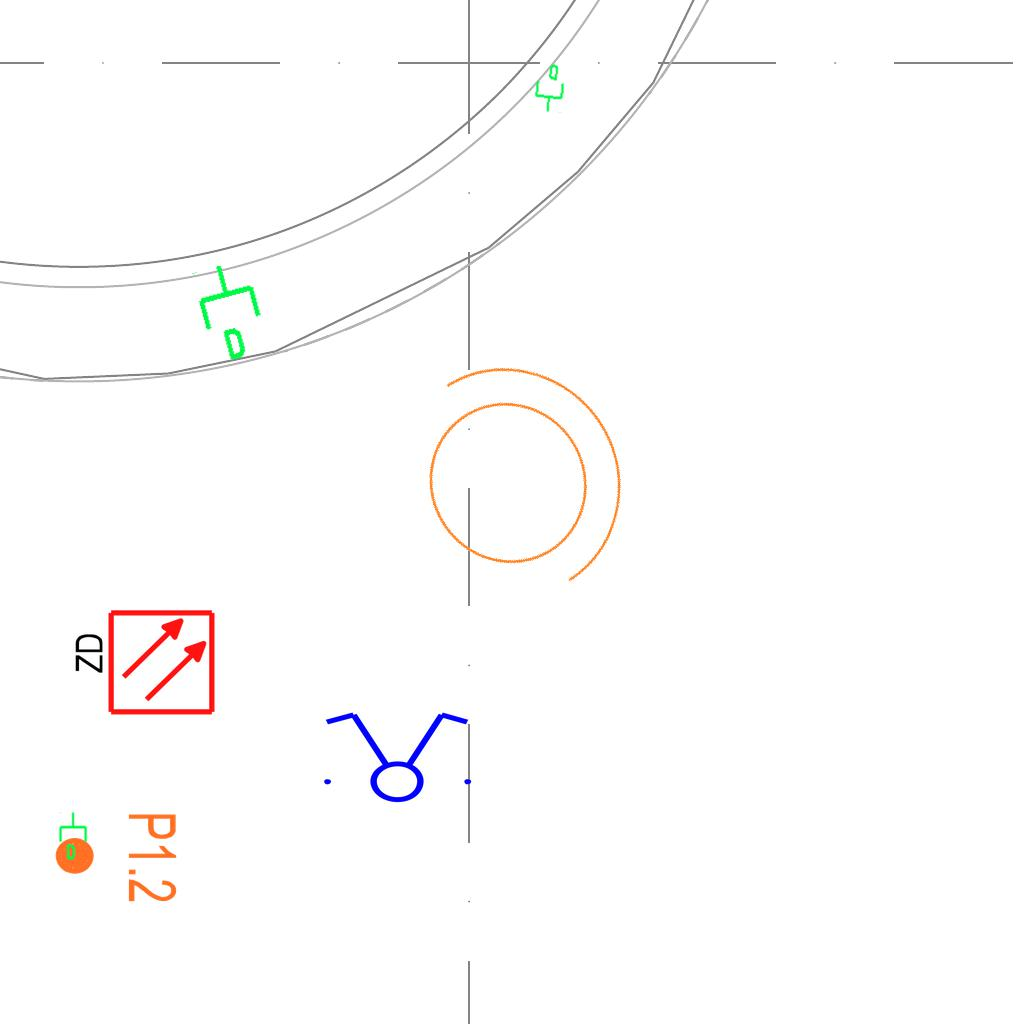Datenanschluss_einfach: (186, 253, 279, 369), (529, 61, 569, 115), (57, 811, 91, 861)
Downlight_LED_Einbauleuchten_Flur: (52, 811, 180, 904)
Scheinwerfer_fuer_Alarmbeleuchtung: (347, 300, 679, 645)
Serienschalter: (312, 708, 480, 804)
ZD_Melder_in_Zwischendecke_mit_Revisionsoeffnung_mind_40_x_40_cm: (68, 607, 217, 721)
